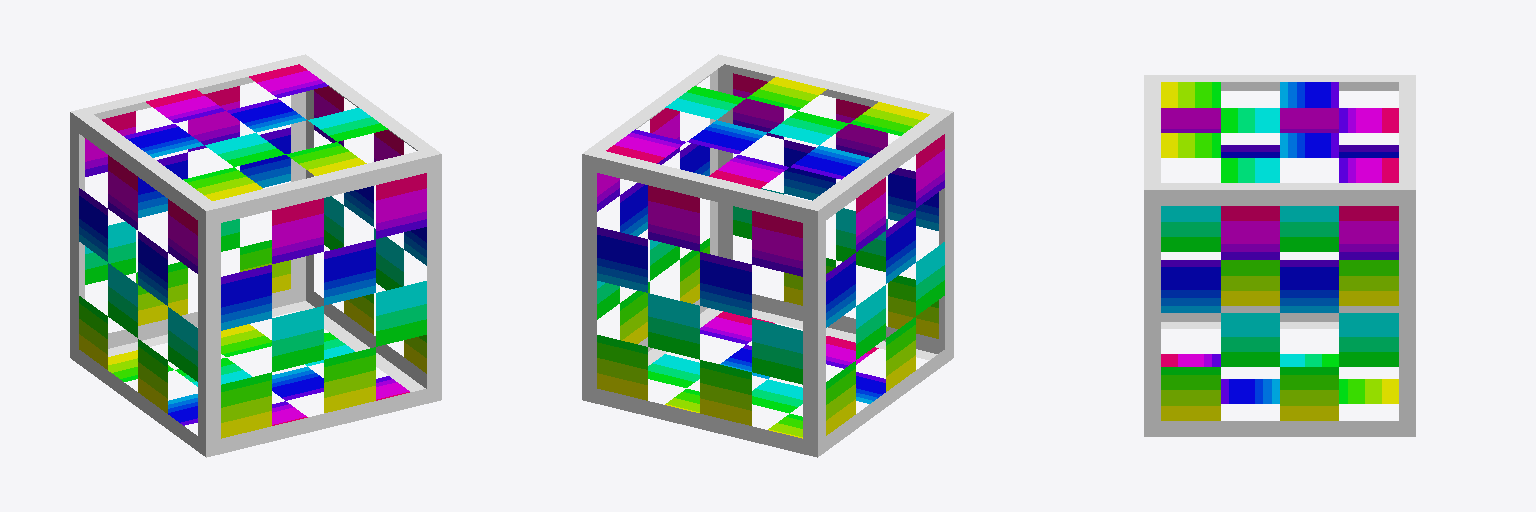
The picture shows the model from 3 angles: view 1: azimuth 30°, elevation 25°; view 2: azimuth 150°, elevation 25°; view 3: azimuth 270°, elevation 25°; orthographic projection.
Parts seen in each view (by area): view 1: polygon0.003; view 2: polygon0.003; view 3: polygon0.003.
Boxes of the visible parts, <box> form: polygon0.003: <box>70,54,441,457</box>; polygon0.003: <box>582,54,953,457</box>; polygon0.003: <box>1144,75,1415,436</box>.
Size of the model in its own units: 0.9375 by 0.9375 by 0.9375.
Materials: 1 (1 with a texture image).